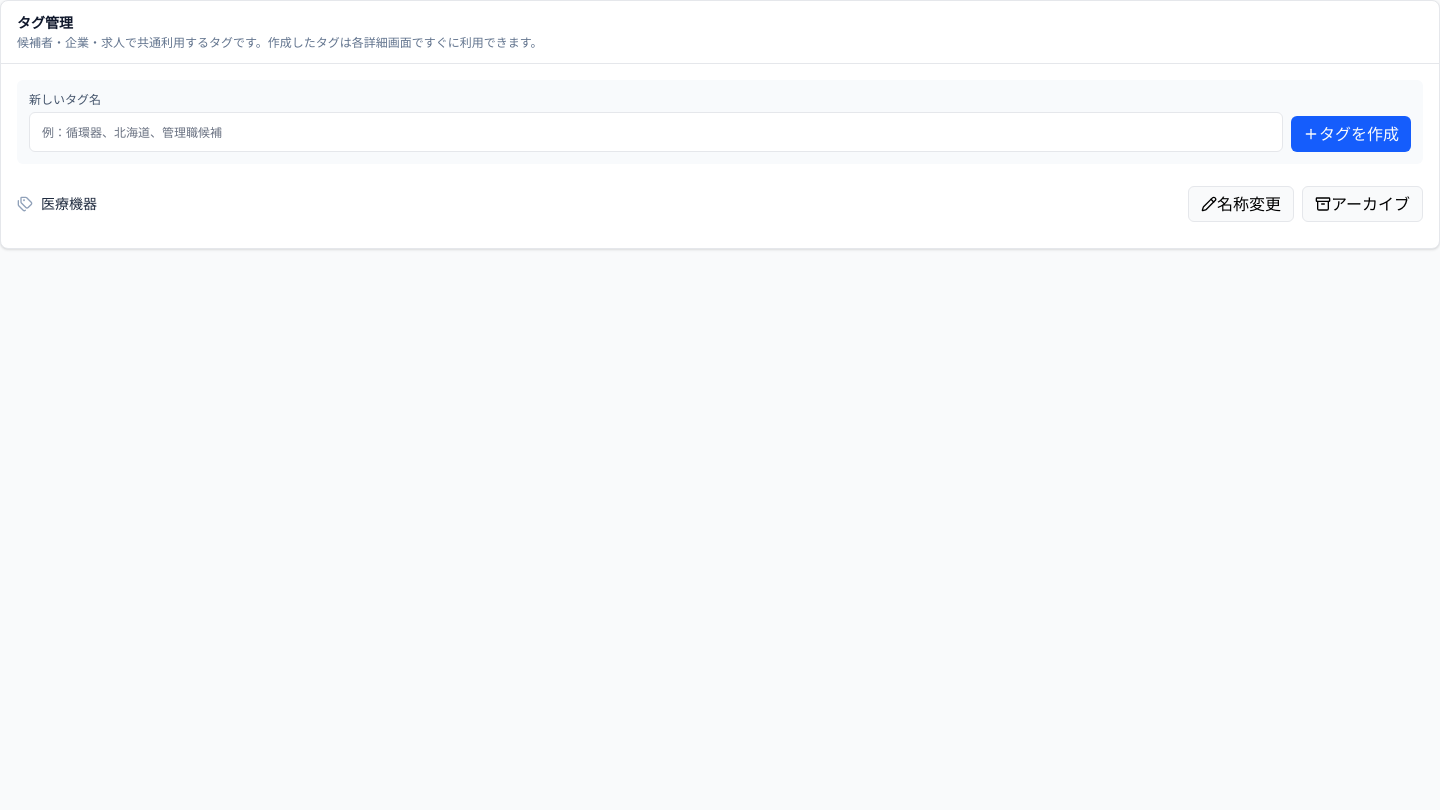
Test: TagManagementPanel › archives a tag only after in-page confirmation
Step 1. Click the button with aria-label "医療機器をアーカイブ" → {"x": 1362, "y": 204}, box 1302,186 -> 1423,222
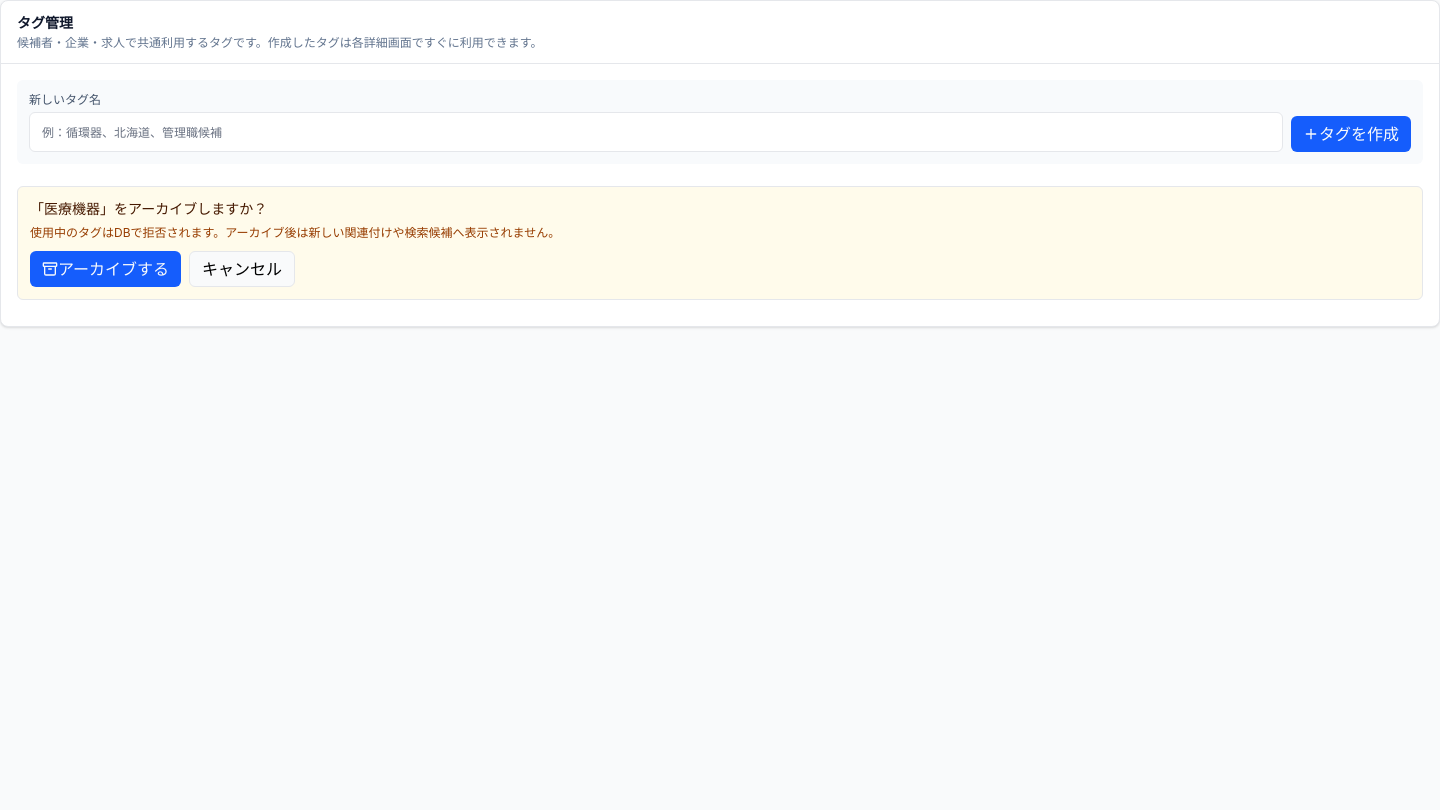
Step 2. Click the button "アーカイブする" → {"x": 106, "y": 269}, box 30,251 -> 181,287
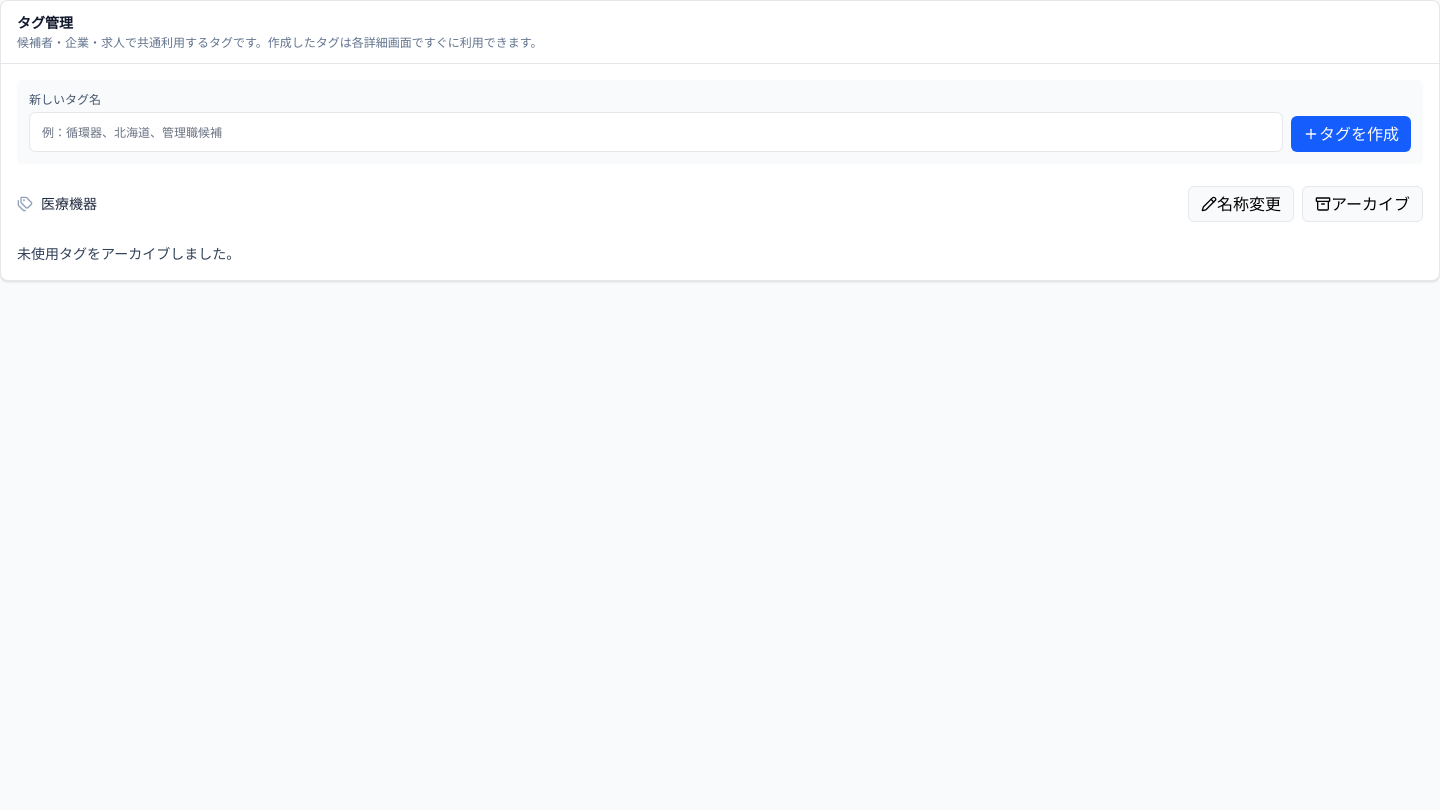
Expected: the text "未使用タグをアーカイブしました。" is shown, 17,245 -> 240,262
